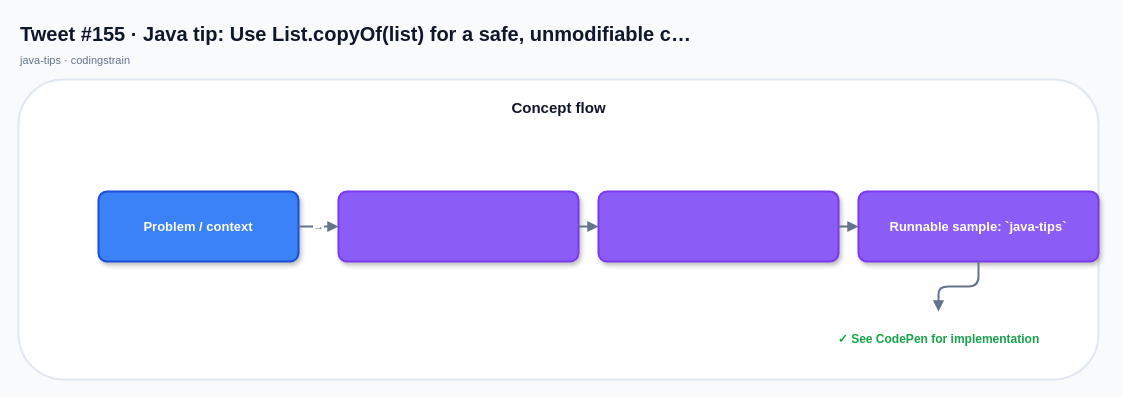
Some shapes in this 1122 by 397 pixel diagram are drawn without their labels. The centre of each missing label's shape, as x and y in pixels:
Java tip: Use List.copyOf(list) for a safe, unmodifiable copy, while a: point 719,227
💡 Java tip: Use List.copyOf(list) for a safe, unmodifiable copy, while: point 459,227
